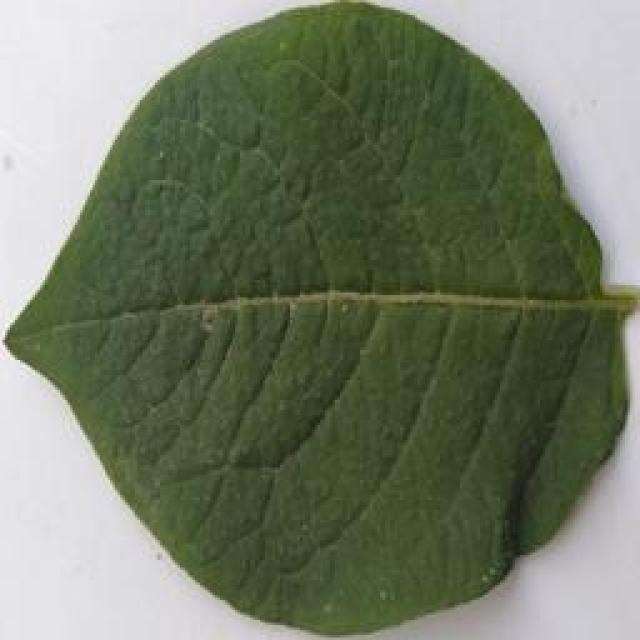Potato_Healthy: (10, 11, 640, 640)
